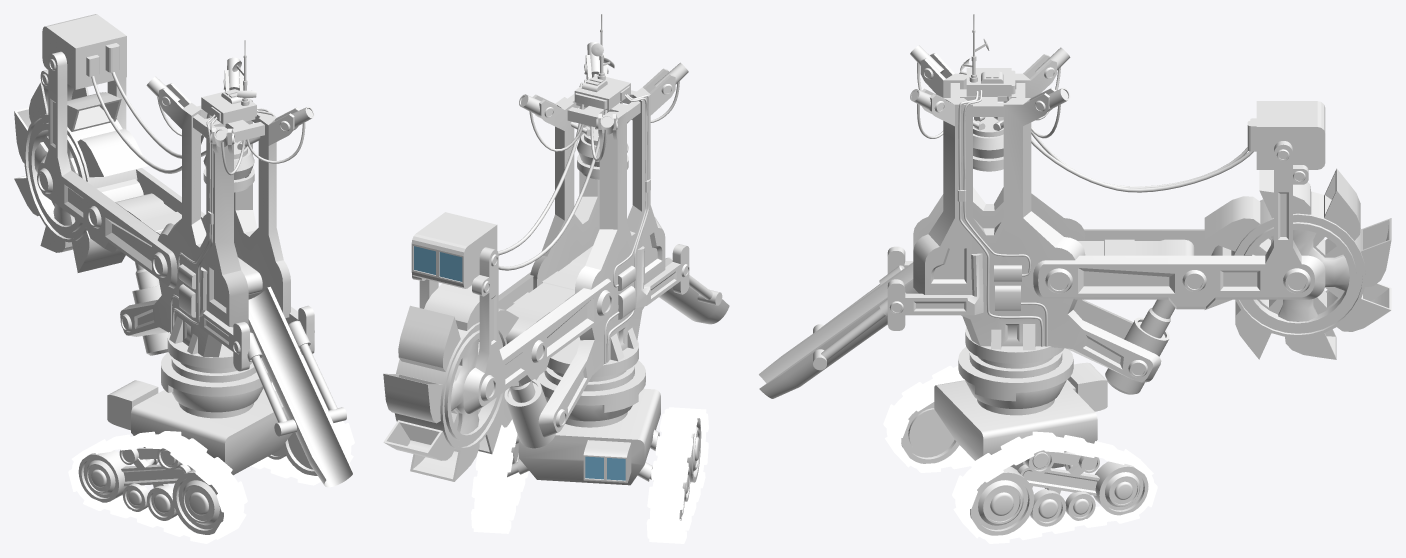
The model's file is Yellow-Drill-gltf-animations-seperated.gltf.
3 renders of one model, left to right at view 1: azimuth 30°, elevation 25°; view 2: azimuth 150°, elevation 25°; view 3: azimuth 270°, elevation 25°, orthographic. The views are drawn at different scales.
Parts seen in each view (by area): view 1: Cube.105, Cylinder.050, Cube.104, Cube.106, Treads.008, Cylinder.046, Cube.091, Wheels.016, base-Cylinder.009, Cube.093, Wheels.015, Cylinder.047 (+18 smaller); view 2: Cube.105, Cylinder.050, Treads.008, Cube.104, Cube.106, Cube.091, Cube.103, base-Cylinder.009, Cube.093, Cylinder.049, BézierCurve.015, Cylinder.046 (+15 smaller); view 3: Cube.105, Cylinder.050, Cube.104, Treads.008, Cube.106, Cylinder.046, Wheels.016, Cube.091, Wheels.015, base-Cylinder.009, Cube.093, Wheels.019 (+16 smaller).
Boxes of the visible parts, <box> form: Cube.105: <box>120,70,299,357</box>; Cylinder.050: <box>14,82,147,272</box>; Cube.104: <box>38,51,205,288</box>; Cube.106: <box>107,380,291,475</box>; Treads.008: <box>68,381,354,543</box>; Cylinder.046: <box>248,286,352,487</box>; Cube.091: <box>42,14,126,89</box>; Wheels.016: <box>78,437,317,534</box>; base-Cylinder.009: <box>161,352,271,412</box>; Cube.093: <box>199,267,314,371</box>; Wheels.015: <box>83,432,310,529</box>; Cylinder.047: <box>247,320,337,422</box>; Cube.105: <box>501,54,675,437</box>; Cylinder.050: <box>383,283,518,481</box>; Treads.008: <box>471,407,708,543</box>; Cube.104: <box>412,247,613,413</box>; Cube.106: <box>518,388,660,485</box>; Cube.091: <box>411,212,497,288</box>; Cube.103: <box>505,246,592,343</box>; base-Cylinder.009: <box>537,360,645,421</box>; Cube.093: <box>636,244,689,307</box>; Cylinder.049: <box>504,379,555,448</box>; BézierCurve.015: <box>498,104,607,270</box>; Cylinder.046: <box>659,286,729,324</box>; Cube.105: <box>913,53,1161,382</box>; Cylinder.050: <box>1204,168,1391,359</box>; Cube.104: <box>1033,141,1325,309</box>; Treads.008: <box>883,365,1157,543</box>; Cube.106: <box>934,362,1107,470</box>; Cylinder.046: <box>759,262,918,398</box>; Wheels.016: <box>901,402,1148,535</box>; Cube.091: <box>1256,101,1325,169</box>; Wheels.015: <box>908,408,1143,529</box>; base-Cylinder.009: <box>958,347,1073,408</box>; Cube.093: <box>887,246,983,330</box>; Wheels.019: <box>1018,452,1099,495</box>.
Size of the model in its own units: 15.51 by 29.51 by 35.07.
